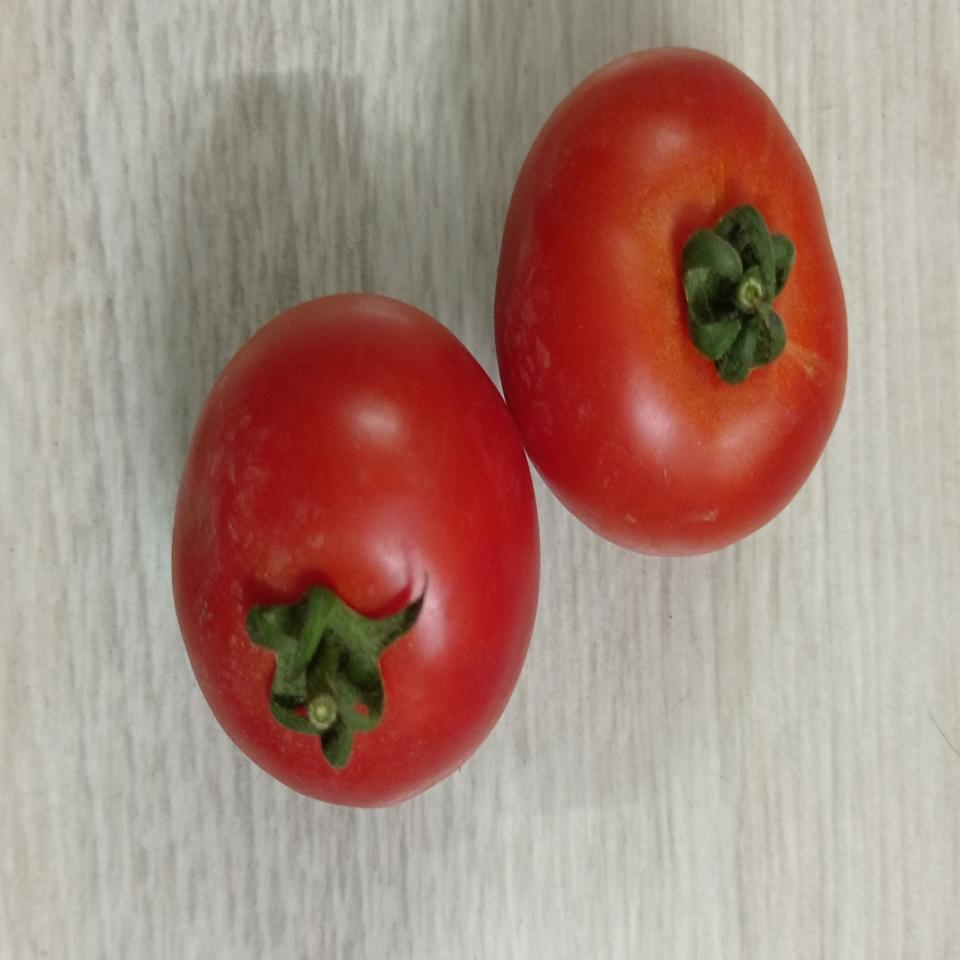Healthy: (163, 280, 546, 819), (489, 32, 856, 569)
